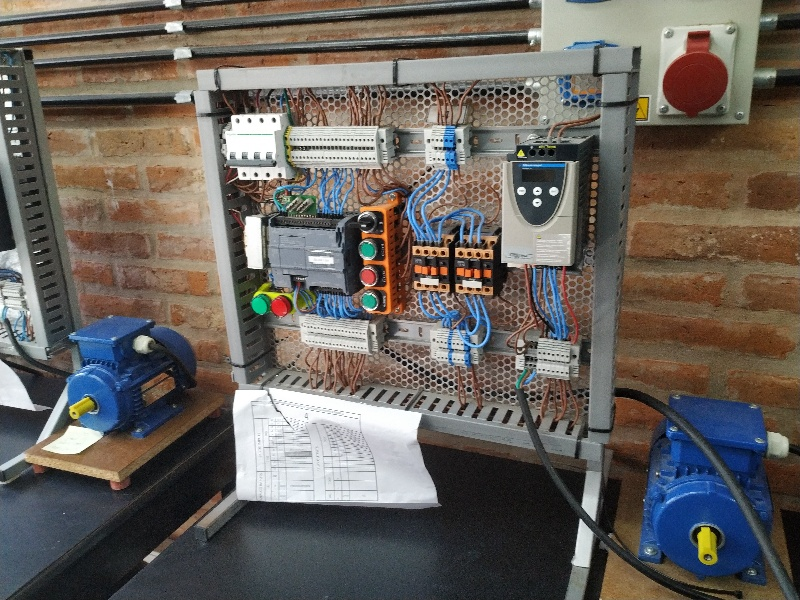Tablero 4: (221, 69, 614, 393)
